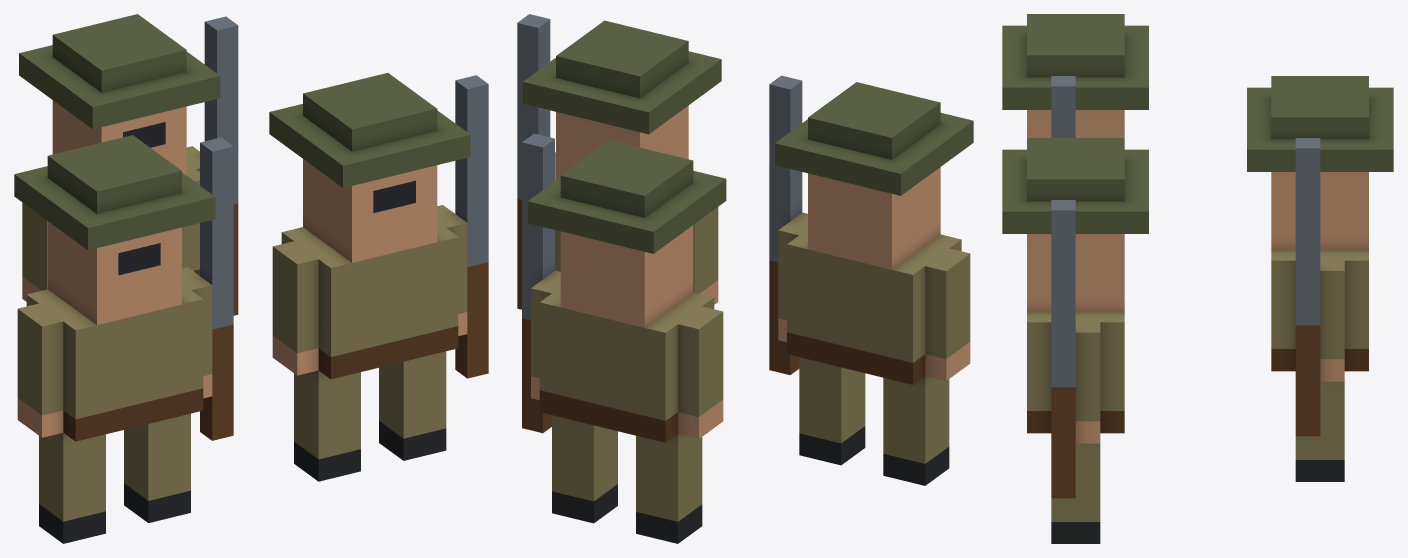
The model's file is u_infantry.glb.
The picture shows the model from 3 angles, left to right: view 1: azimuth 30°, elevation 25°; view 2: azimuth 150°, elevation 25°; view 3: azimuth 270°, elevation 25°; orthographic projection.
Visible parts, largest first — view 1: u_infantry_body; view 2: u_infantry_body; view 3: u_infantry_body.
Boxes of the visible parts, x1=… form: u_infantry_body: x1=14, y1=14, x2=488, y2=543; u_infantry_body: x1=517, y1=14, x2=973, y2=543; u_infantry_body: x1=1002, y1=14, x2=1393, y2=543.
Bounding box in the file's own units: 1.31 × 1 × 1.
Materials: 1 (1 with a texture image).
